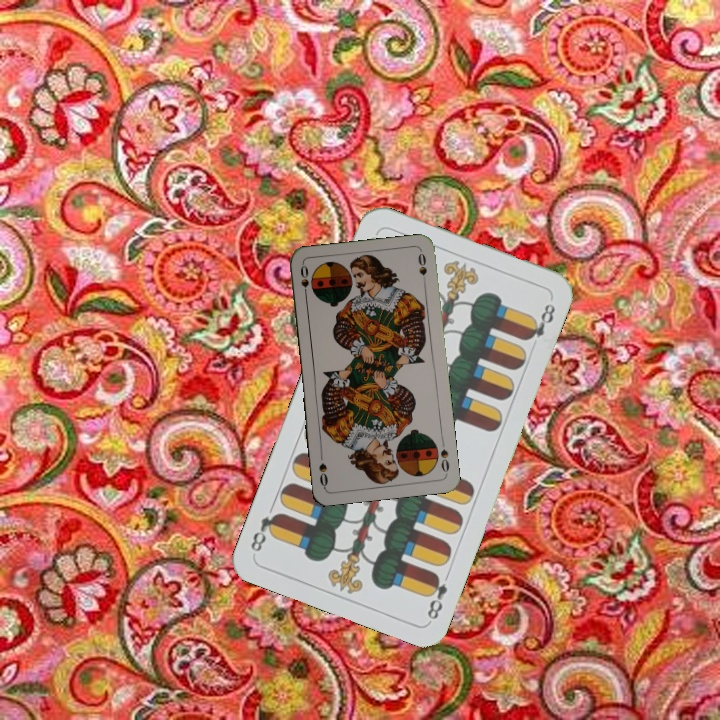E8: (422, 569, 450, 622)
SO: (296, 261, 312, 302), (436, 445, 452, 476)
